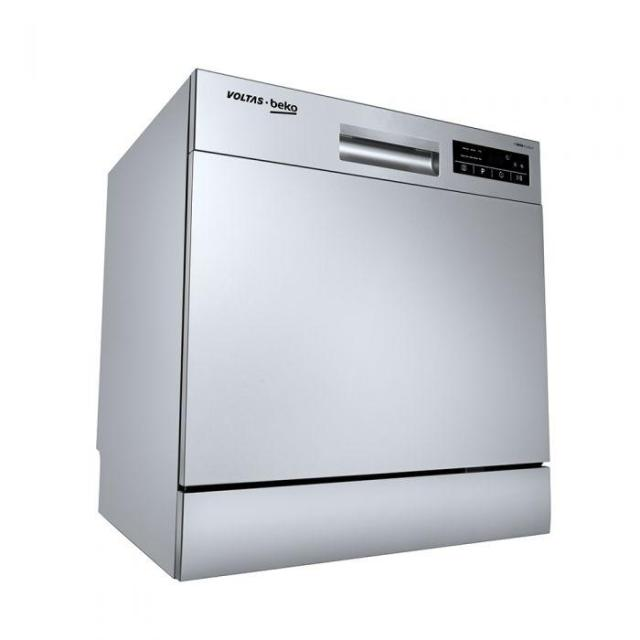dishwasher: (102, 63, 555, 583)
